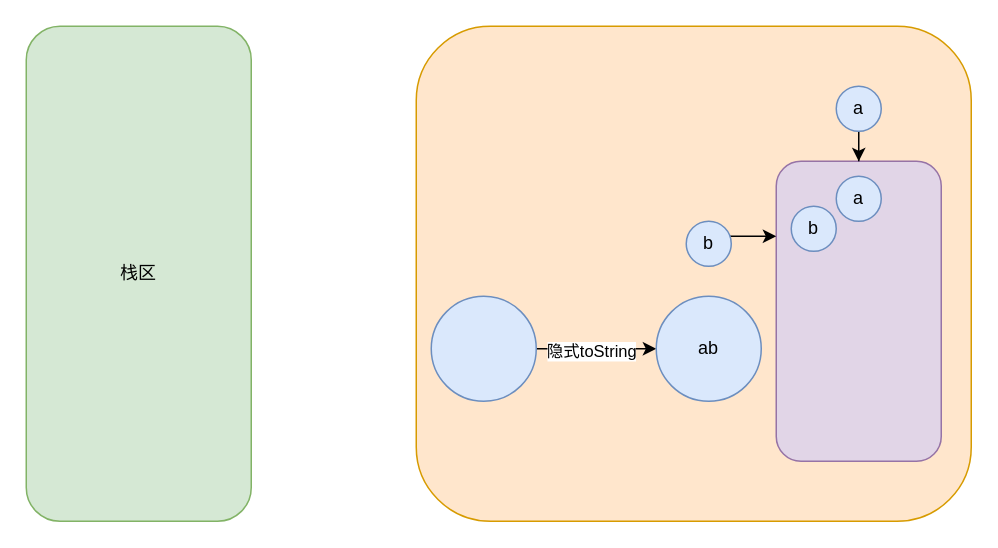
The diagram is 998 pixels wide and 548 high, and some of its shapes have lost their labels. The shapes that lost their labels are listed below. From the top down, each one's box as (x1, y1, x2, y2) in pixels, then its label:
(415, 25, 971, 521): 堆区
(775, 160, 941, 461): StringTable
(430, 295, 536, 401): stringBuilder
